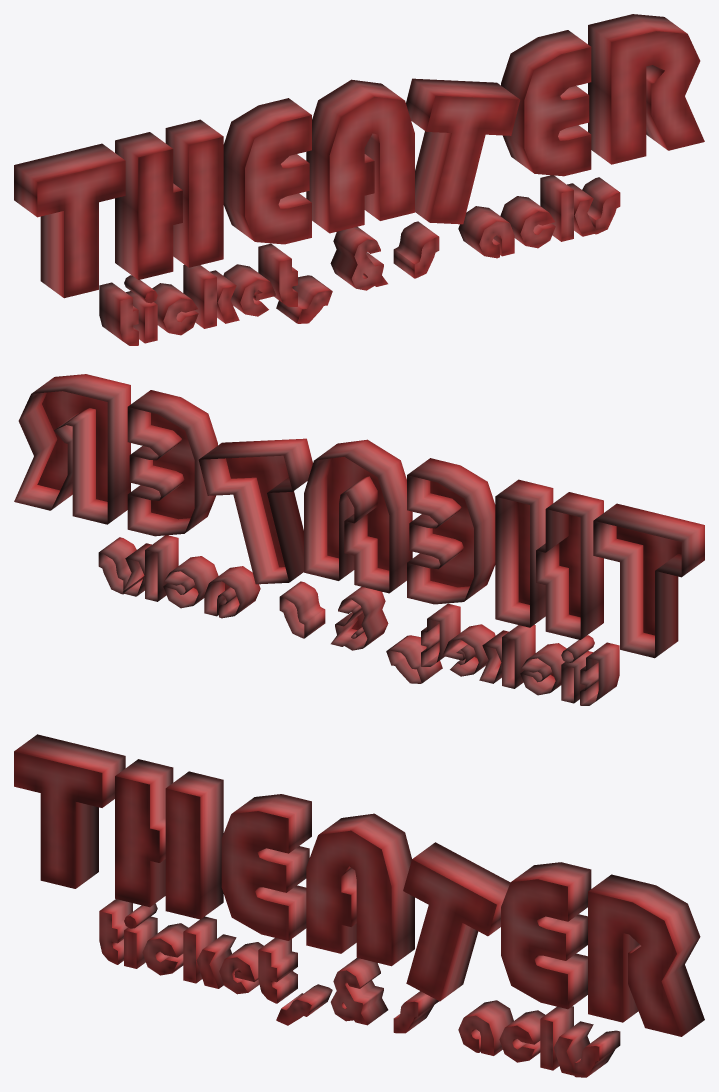
The model's file is theatersign.fbx.
3 renders of one model, top to bottom at view 1: azimuth 30°, elevation 25°; view 2: azimuth 150°, elevation 25°; view 3: azimuth 330°, elevation 25°, orthographic.
Parts seen in each view (by area): view 1: Text.001; view 2: Text.001; view 3: Text.001.
Part boxes in pixels (x1,y1,x2,y2): Text.001: (14, 14, 704, 345); Text.001: (14, 374, 704, 705); Text.001: (14, 734, 704, 1077).
Size of the model in its own units: 661 by 200 by 40.
